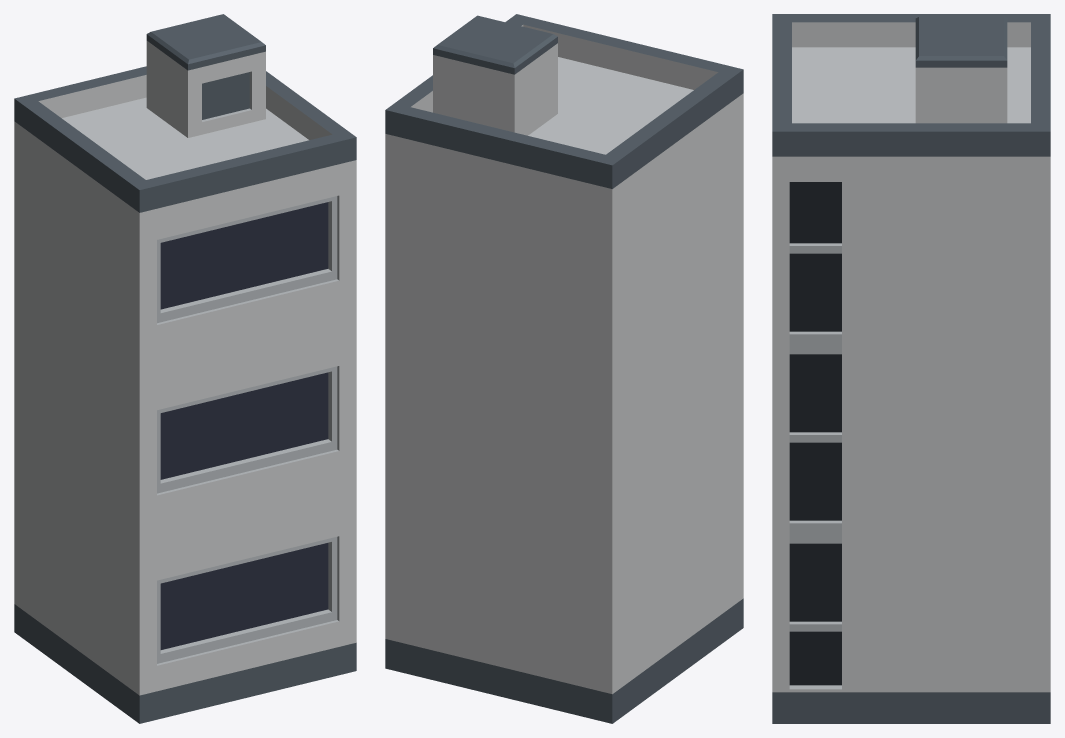
File: stair-and-lift-core-a13dd9.glb
3 renders of one model, left to right at view 1: azimuth 30°, elevation 25°; view 2: azimuth 150°, elevation 25°; view 3: azimuth 270°, elevation 25°, orthographic. The views are drawn at different scales.
Parts seen in each view (by area): view 1: core-shell; view 2: core-shell; view 3: core-shell.
Boxes of the visible parts, x1,y1,x2,y2 form: core-shell: (14,14,356,723); core-shell: (385,14,743,723); core-shell: (772,14,1050,723).
Bounding box in the file's own units: 4 × 10.35 × 4.
